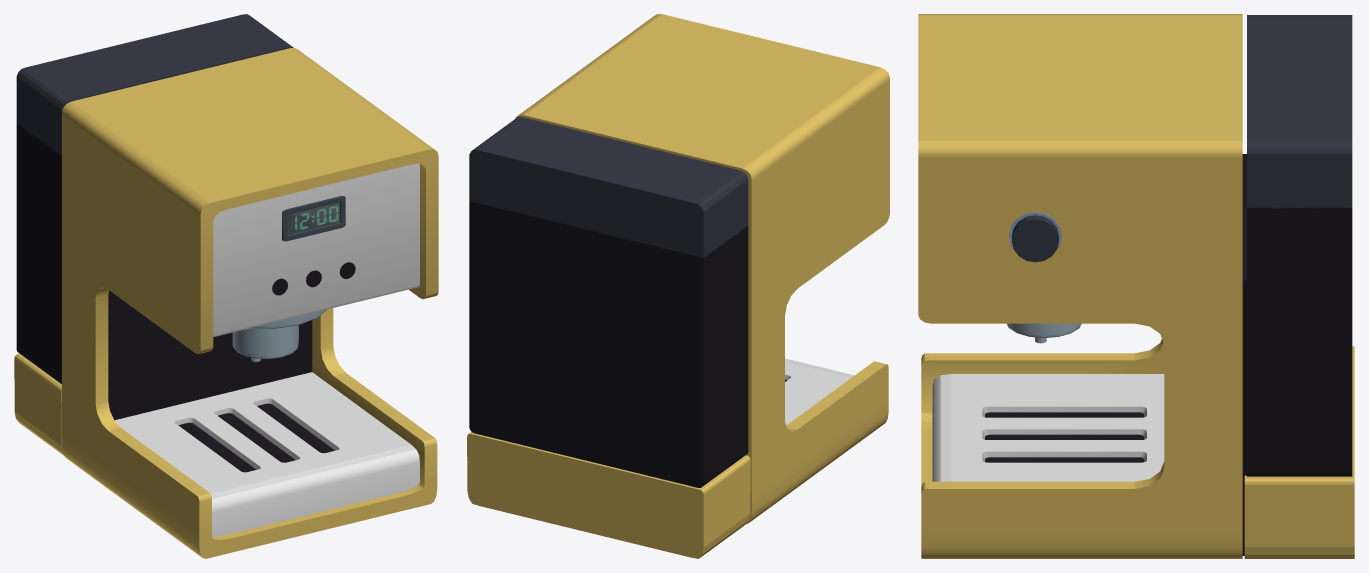
Rendered from coffe_machine.fbx.
3 renders of one model, left to right at view 1: azimuth 30°, elevation 25°; view 2: azimuth 150°, elevation 25°; view 3: azimuth 270°, elevation 25°, orthographic. The views are drawn at different scales.
Visible parts, largest first — view 1: CoffeeMachine; view 2: CoffeeMachine; view 3: CoffeeMachine.
Part boxes in pixels (x1=…): CoffeeMachine: x1=14, y1=14, x2=438, y2=558; CoffeeMachine: x1=467, y1=14, x2=889, y2=558; CoffeeMachine: x1=918, y1=14, x2=1354, y2=558.
Bounding box in the file's own units: 222 × 307 × 292.
9 materials, 1 textured.
